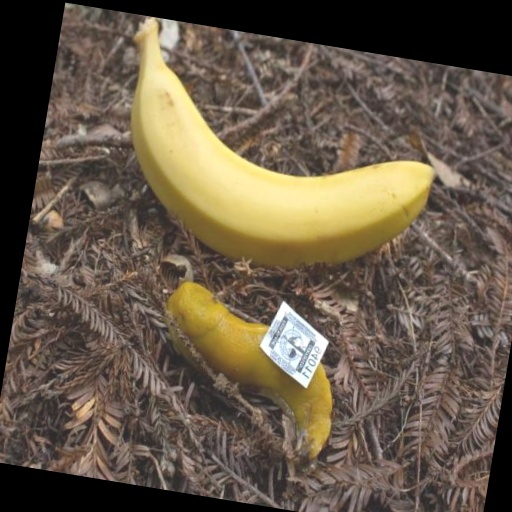fruit: (130, 18, 433, 266), (166, 283, 332, 463)
